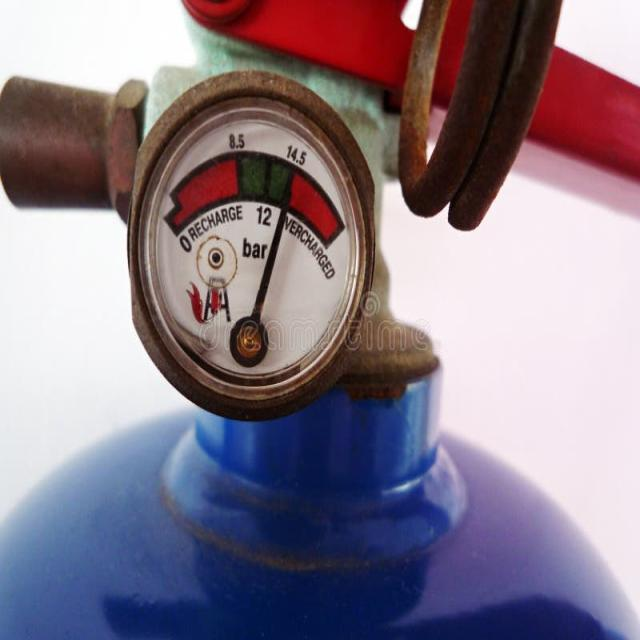pressure gauge: (129, 71, 373, 418)
